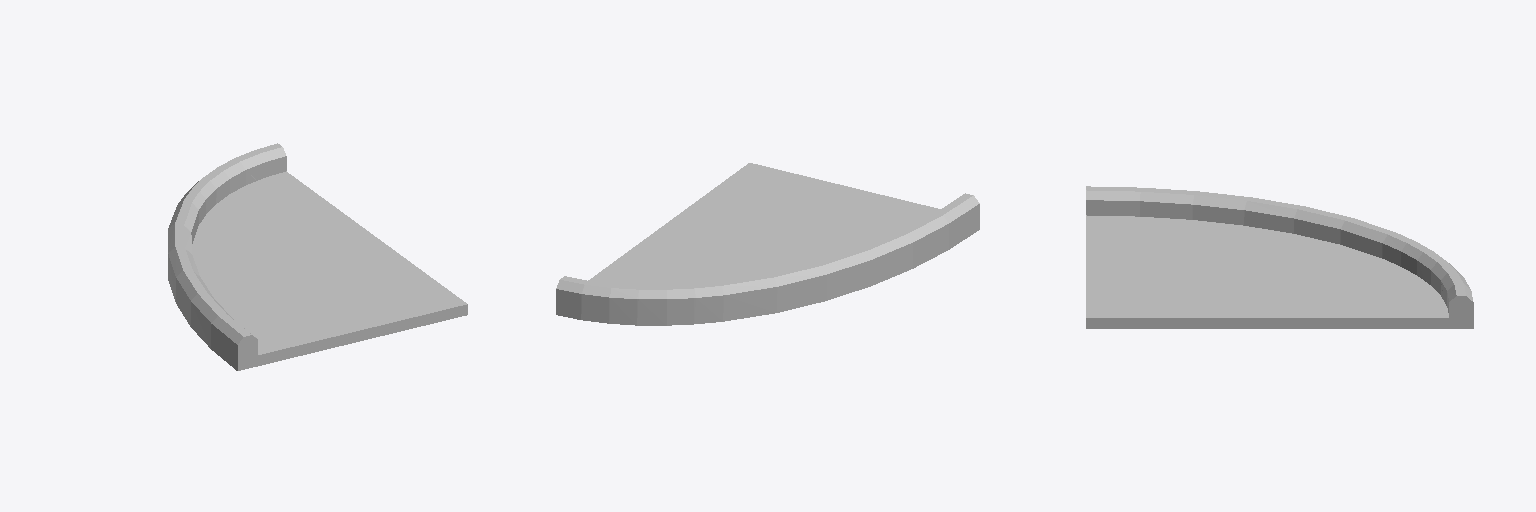
Rendered from runoff_curve1.obj.
3 renders of one model, left to right at view 1: azimuth 30°, elevation 25°; view 2: azimuth 150°, elevation 25°; view 3: azimuth 270°, elevation 25°, orthographic.
Parts seen in each view (by area): view 1: object1, object2, object3; view 2: object1, object3, object2; view 3: object1, object3, object2.
Boxes of the visible parts, box(x1,y1,x2,y2) form: object1: box(227, 216, 467, 365); object2: box(192, 171, 346, 312); object3: box(168, 143, 286, 370); object1: box(629, 163, 940, 264); object3: box(556, 193, 979, 325); object2: box(588, 251, 825, 285); object1: box(1086, 215, 1327, 328); object3: box(1086, 186, 1473, 328); object2: box(1111, 216, 1448, 328).
Bounding box in the file's own units: 1.1 × 0.15 × 1.6.